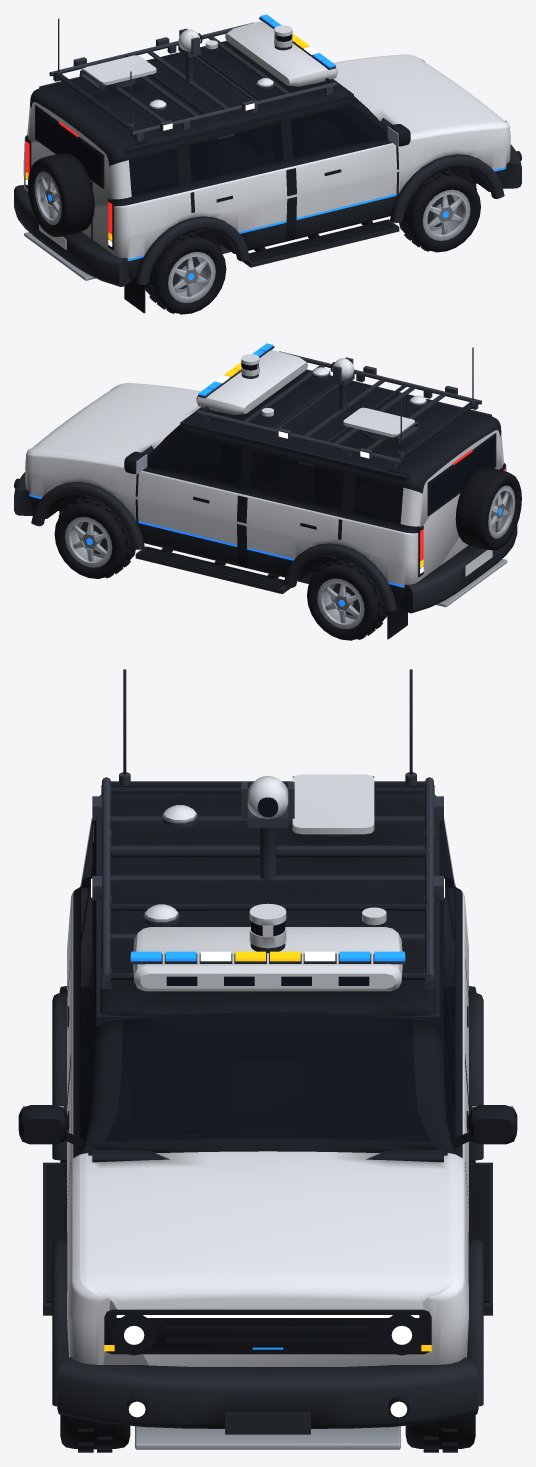
File: continua_rover_lod1.glb
3 views of the same model, one above another, from view 1: azimuth 30°, elevation 25°; view 2: azimuth 150°, elevation 25°; view 3: azimuth 270°, elevation 25° (orthographic). The views are drawn at different scales.
Parts seen in each view (by area): view 1: CONTINUA_Body, CONTINUA_SensorAssembly, CONTINUA_Trim, CONTINUA_Interior, CONTINUA_Wheel_FR, CONTINUA_Wheel_RR, CONTINUA_Glass, CONTINUA_SatPanel, CONTINUA_Lights_Rear; view 2: CONTINUA_Body, CONTINUA_SensorAssembly, CONTINUA_Trim, CONTINUA_Interior, CONTINUA_Wheel_FL, CONTINUA_Wheel_RL, CONTINUA_Glass, CONTINUA_SatPanel; view 3: CONTINUA_Body, CONTINUA_Interior, CONTINUA_SensorAssembly, CONTINUA_Trim, CONTINUA_SatPanel, CONTINUA_Lights_Front, CONTINUA_Wheel_FL, CONTINUA_Wheel_FR, CONTINUA_LidarHead.
Boxes of the visible parts, x1,y1,x2,y2 form: CONTINUA_Body: (14,41,521,286); CONTINUA_SensorAssembly: (49,14,337,141); CONTINUA_Trim: (25,105,521,313); CONTINUA_Interior: (39,40,392,241); CONTINUA_Wheel_FR: (399,168,480,252); CONTINUA_Wheel_RR: (145,233,226,314); CONTINUA_Glass: (36,109,398,184); CONTINUA_SatPanel: (81,55,156,85); CONTINUA_Lights_Rear: (25,121,112,246); CONTINUA_Body: (14,370,517,613); CONTINUA_SensorAssembly: (196,343,481,468); CONTINUA_Trim: (14,433,521,639); CONTINUA_Interior: (142,369,491,568); CONTINUA_Wheel_FL: (54,496,135,578); CONTINUA_Wheel_RL: (307,560,387,640); CONTINUA_Glass: (136,437,494,511); CONTINUA_SatPanel: (343,407,417,438); CONTINUA_Body: (52,793,483,1449); CONTINUA_Interior: (90,820,445,1162); CONTINUA_SensorAssembly: (91,669,444,991); CONTINUA_Trim: (18,1006,517,1418); CONTINUA_SatPanel: (292,774,374,834); CONTINUA_Lights_Front: (104,1315,431,1417); CONTINUA_Wheel_FL: (405,1414,475,1452); CONTINUA_Wheel_FR: (60,1414,130,1452); CONTINUA_LidarHead: (249,903,286,937).
Size of the model in its own units: 5.04 by 2.61 by 2.44.
